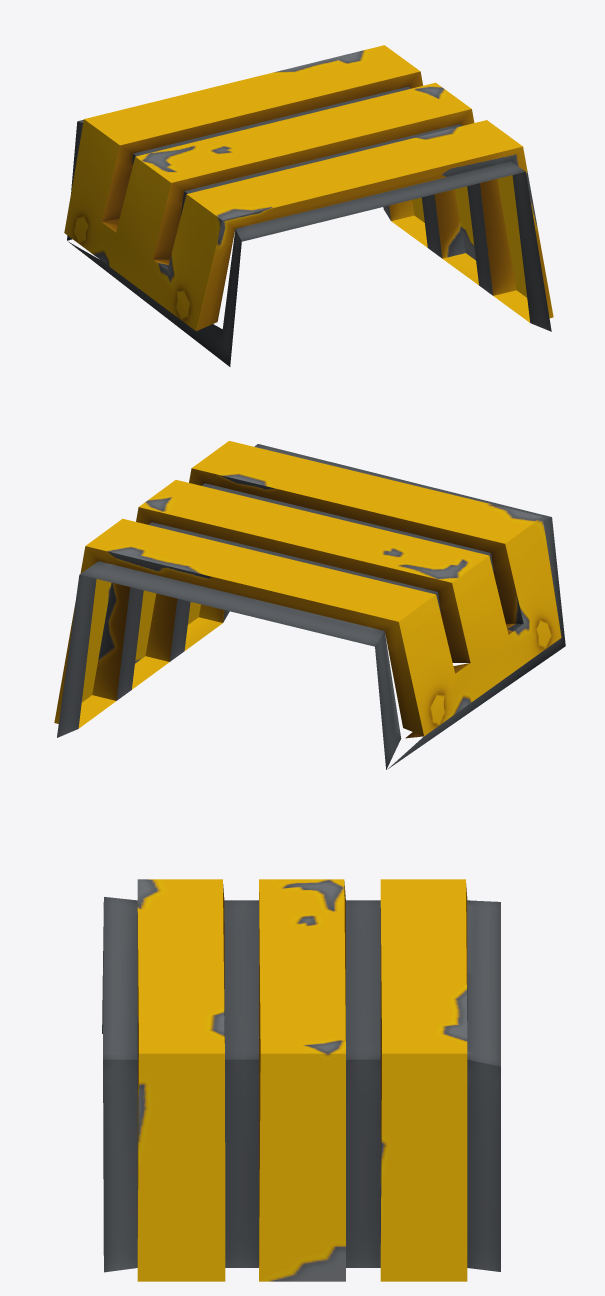
File: env_ruin_container_03_lod2.fbx
3 renders of one model, top to bottom at view 1: azimuth 30°, elevation 25°; view 2: azimuth 150°, elevation 25°; view 3: azimuth 270°, elevation 25°, orthographic. The views are drawn at different scales.
Visible parts, largest first — view 1: env_ruin_container_03_lod2; view 2: env_ruin_container_03_lod2; view 3: env_ruin_container_03_lod2.
Part boxes in pixels (box(x1,y1,x2,y2)): env_ruin_container_03_lod2: box(64, 45, 553, 366); env_ruin_container_03_lod2: box(54, 441, 565, 769); env_ruin_container_03_lod2: box(102, 879, 500, 1281).
Bounding box in the file's own units: 29.25 × 14.06 × 34.88.
